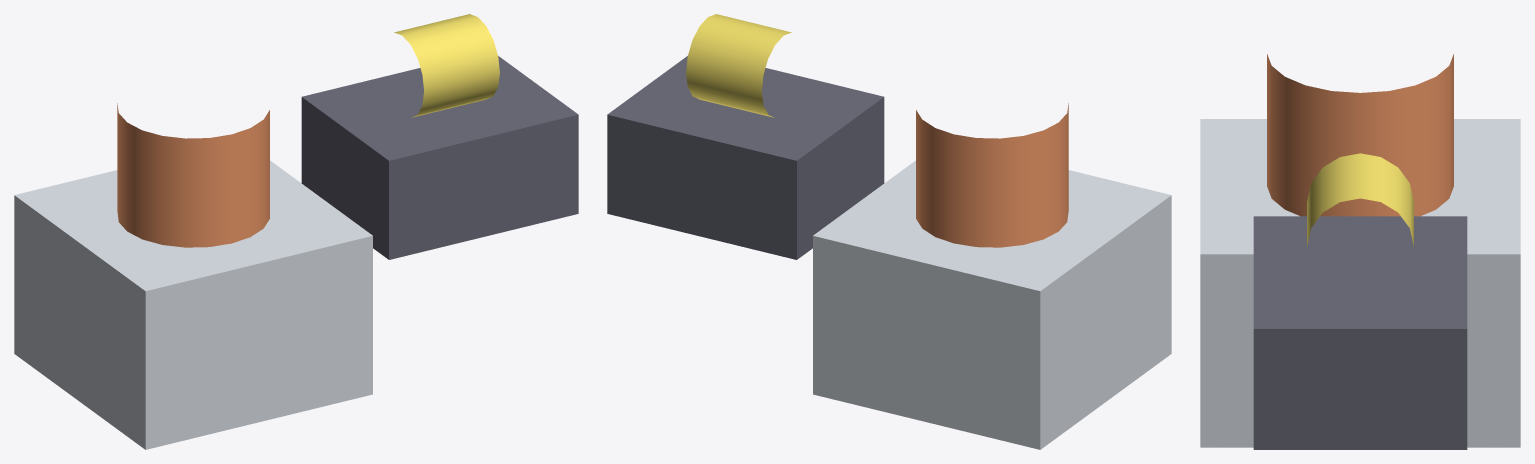
Rendered from power_electronics_drives.glb.
3 renders of one model, left to right at view 1: azimuth 30°, elevation 25°; view 2: azimuth 150°, elevation 25°; view 3: azimuth 270°, elevation 25°, orthographic. The views are drawn at different scales.
Parts seen in each view (by area): view 1: AluminumHeatSinkFins, IGBTInverterBridgeBlock, SCRStudPackage, GatePulseTransformerCoil; view 2: AluminumHeatSinkFins, IGBTInverterBridgeBlock, SCRStudPackage, GatePulseTransformerCoil; view 3: IGBTInverterBridgeBlock, AluminumHeatSinkFins, SCRStudPackage, GatePulseTransformerCoil.
Boxes of the visible parts, bbox=[...] form: AluminumHeatSinkFins: bbox=[14, 160, 372, 449]; IGBTInverterBridgeBlock: bbox=[301, 56, 578, 259]; SCRStudPackage: bbox=[117, 103, 269, 247]; GatePulseTransformerCoil: bbox=[394, 14, 499, 117]; AluminumHeatSinkFins: bbox=[813, 160, 1171, 449]; IGBTInverterBridgeBlock: bbox=[607, 56, 884, 259]; SCRStudPackage: bbox=[916, 103, 1068, 247]; GatePulseTransformerCoil: bbox=[686, 14, 791, 117]; IGBTInverterBridgeBlock: bbox=[1253, 216, 1467, 449]; AluminumHeatSinkFins: bbox=[1200, 119, 1520, 447]; SCRStudPackage: bbox=[1267, 54, 1453, 216]; GatePulseTransformerCoil: bbox=[1307, 153, 1413, 246].
Bounding box in the file's own units: 2.4 × 1.45 × 1.2.
